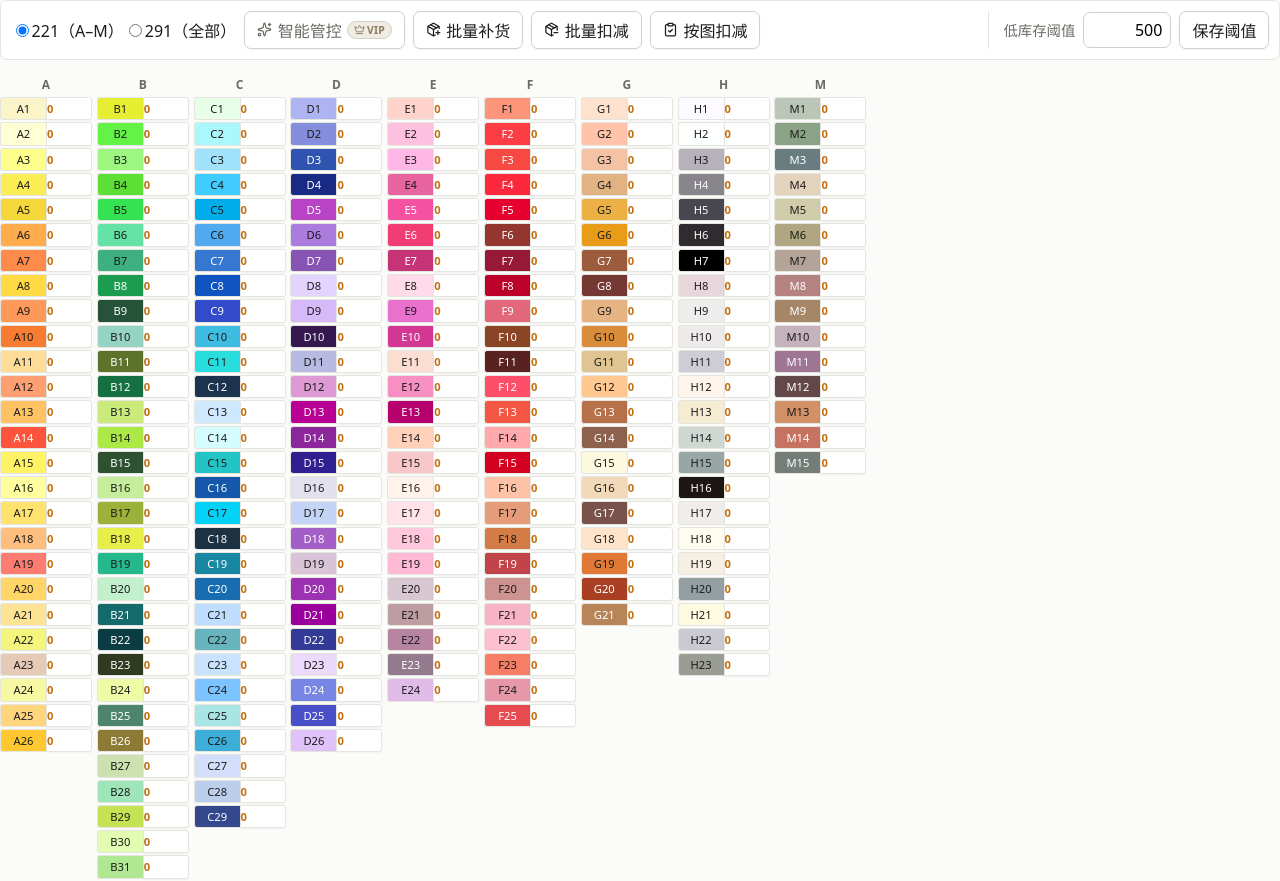
Scenario: 智能管控 (VIP) › a normal account can see and click it, but gets the upsell
The width and height of the screenshot is (1280, 881).
Click the button "智能管控 VIP" at (324, 30), box [244,11,405,49]
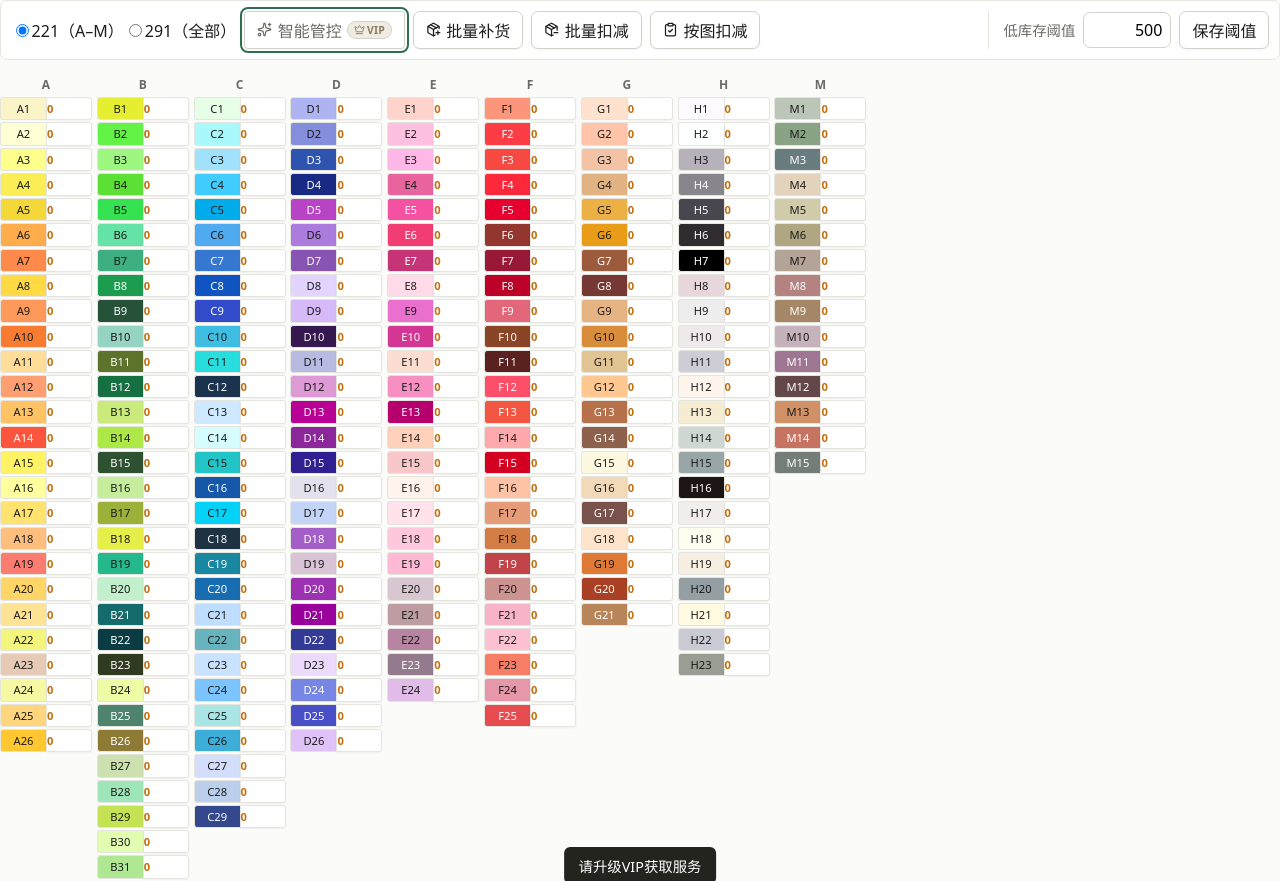
Check: the message reads "请升级VIP获取服务", box [578,857,702,876]
